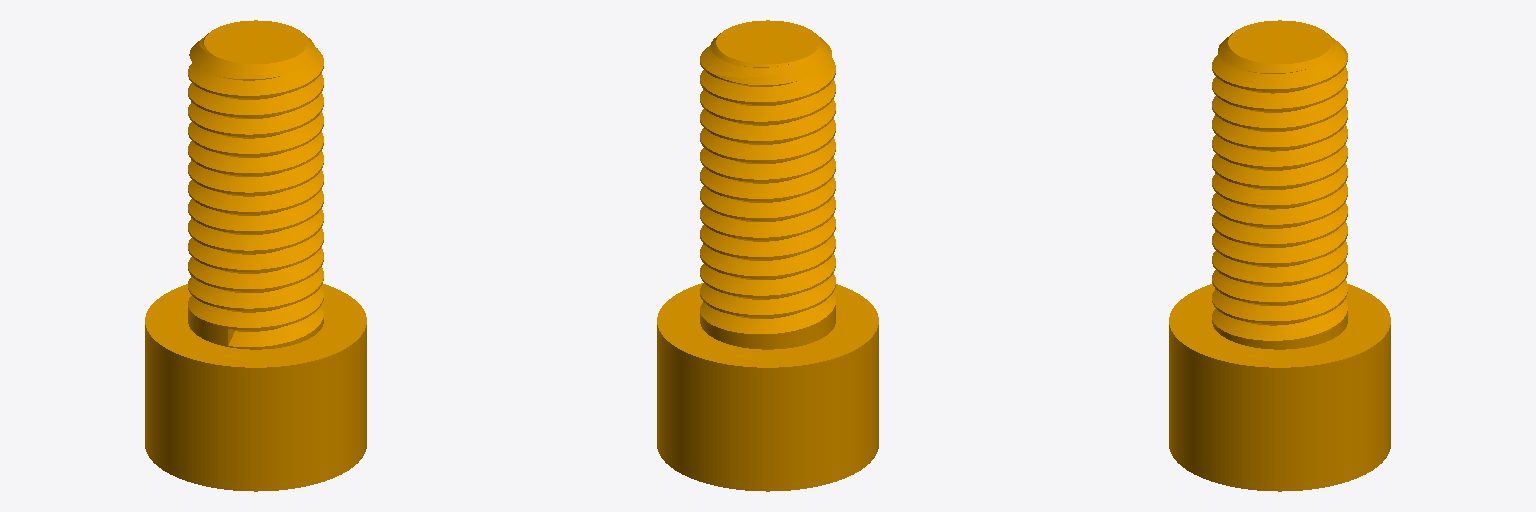
URDF robot description (factory_bolt_m8_tight):
<?xml version="1.0"?>
<robot name="factory_bolt_m8_tight">
    <link name="factory_bolt_m8_tight">
        <visual>
            <geometry>
                <mesh filename="../mesh/factory_nut_bolt/factory_bolt_m8_tight.obj"/>
            </geometry>
        </visual>
        <collision>
            <geometry>
                <mesh filename="../mesh/factory_nut_bolt/factory_bolt_m8_tight.obj"/>
            </geometry>
            <sdf resolution="512"/>
        </collision>
    </link>
</robot>

--- Render facts (derived) ---
The picture shows the robot from 3 angles, left to right: view 1: azimuth 30°, elevation 25°; view 2: azimuth 150°, elevation 25°; view 3: azimuth 270°, elevation 25°; orthographic projection.
Robot: factory_bolt_m8_tight — 1 links, 0 joints (none); root link factory_bolt_m8_tight; default pose: every joint at zero.
Visible links, largest first — view 1: factory_bolt_m8_tight; view 2: factory_bolt_m8_tight; view 3: factory_bolt_m8_tight.
Link boxes in pixels (box(x1,y1,x2,y2)): factory_bolt_m8_tight: box(145, 20, 366, 491); factory_bolt_m8_tight: box(657, 20, 878, 491); factory_bolt_m8_tight: box(1169, 20, 1390, 491).
Size in the robot's own frame: 0.013 by 0.013 by 0.026 metres.
1 mesh visuals loaded from 1 distinct referenced files (1 OBJ).